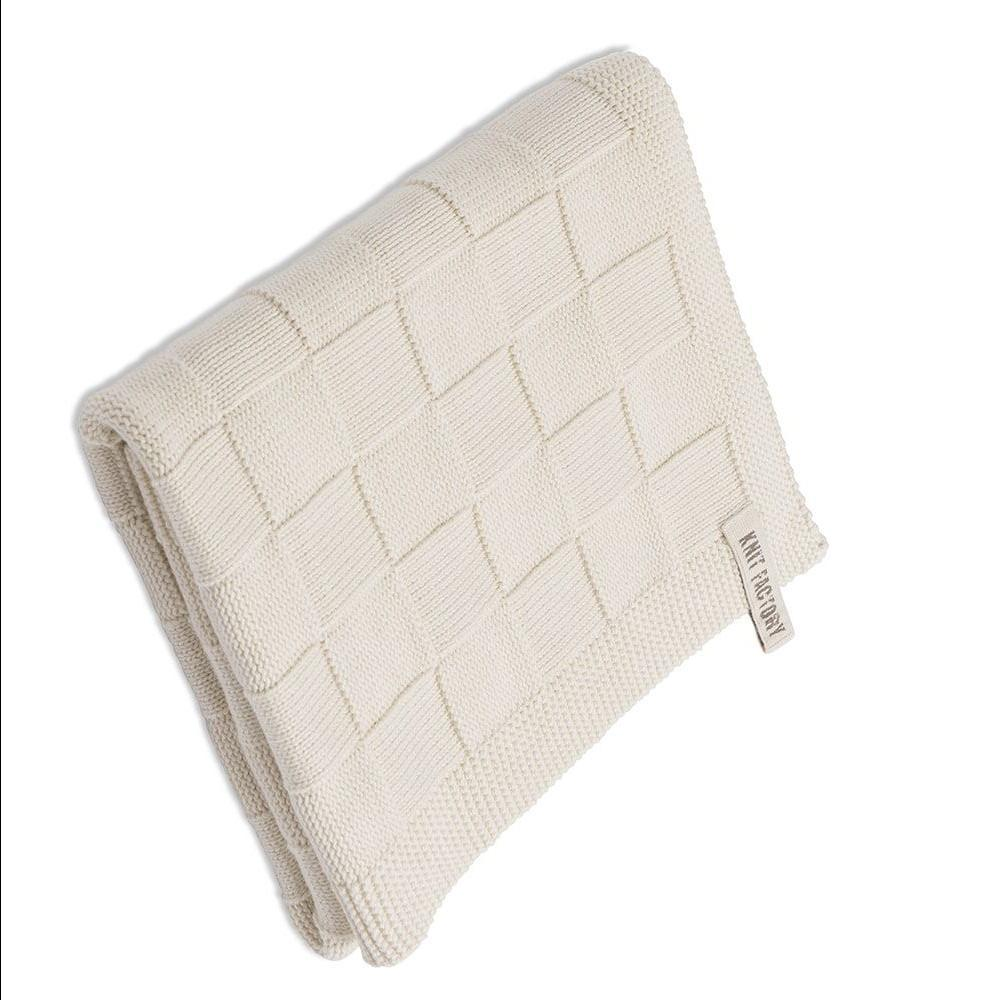towel: (75, 42, 855, 970)
